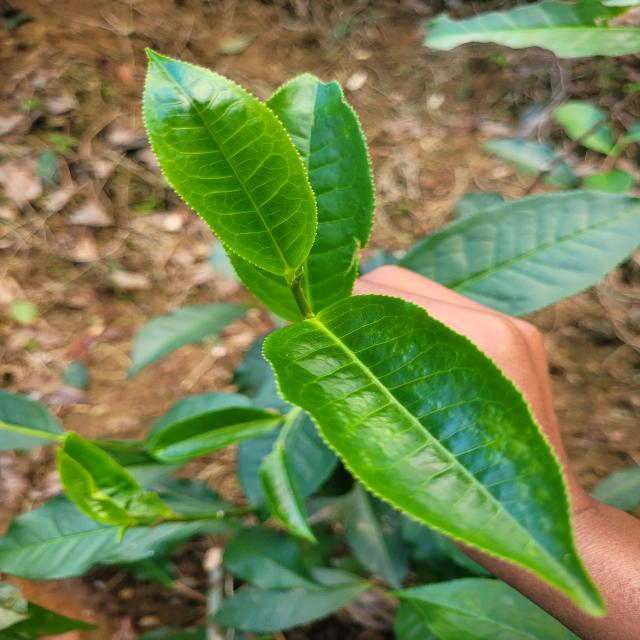Catagory A(1-2 days): (118, 32, 334, 284)
